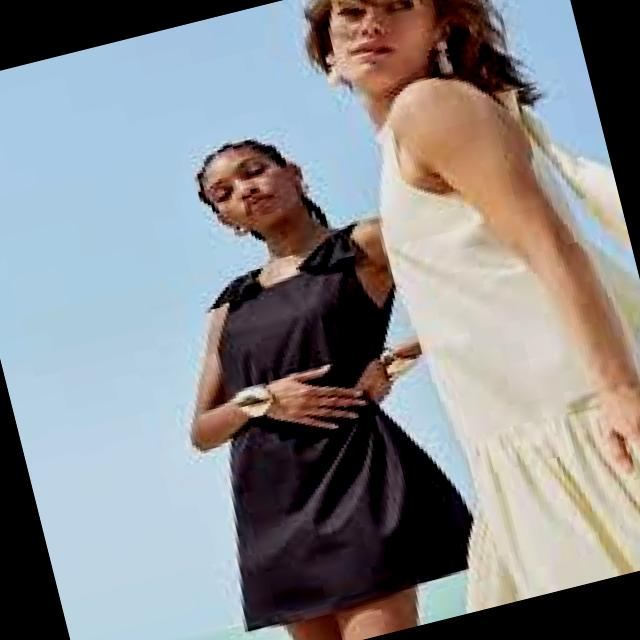dress: (378, 127, 639, 612), (229, 402, 470, 630)
